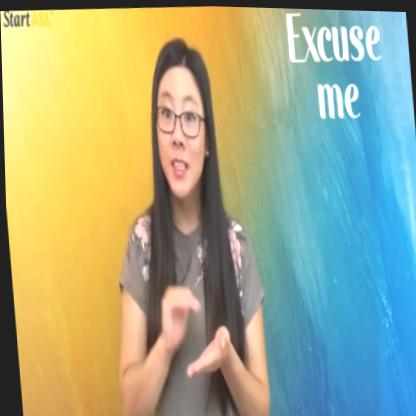ExcuseMe: (134, 265, 241, 381)
